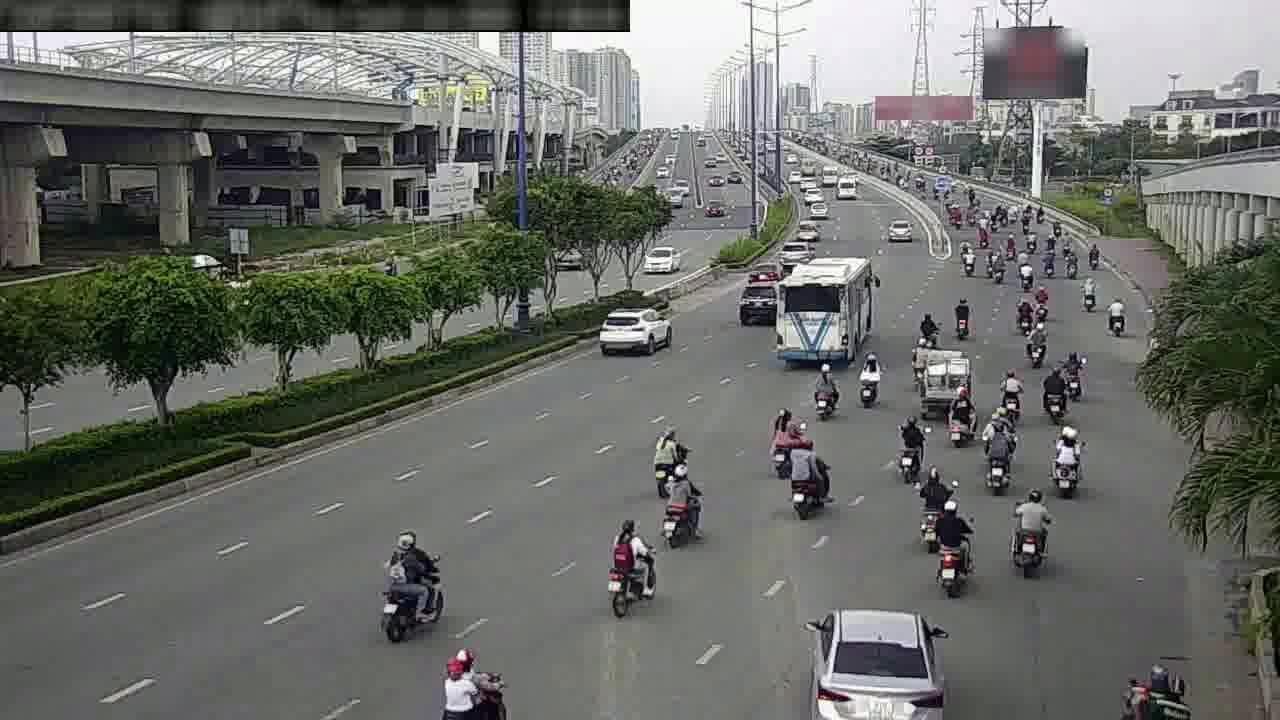14: (780, 258, 876, 359)
container: (816, 602, 949, 707), (592, 301, 675, 361), (737, 280, 785, 327), (742, 255, 782, 287)
motorbike: (375, 531, 451, 639), (602, 525, 664, 618), (444, 649, 521, 717), (1006, 490, 1057, 576), (931, 515, 976, 591), (660, 470, 705, 542), (782, 441, 827, 510), (1043, 428, 1086, 498), (914, 480, 954, 546), (975, 422, 1015, 485), (885, 415, 925, 475), (943, 383, 981, 443), (645, 425, 683, 484), (1034, 366, 1072, 421), (758, 414, 792, 472), (993, 366, 1029, 420), (848, 356, 883, 409), (1096, 290, 1133, 339), (807, 367, 842, 418), (907, 301, 942, 349), (1017, 321, 1051, 368), (1057, 350, 1090, 398), (946, 292, 979, 339), (1070, 270, 1102, 315), (1007, 293, 1037, 334)
